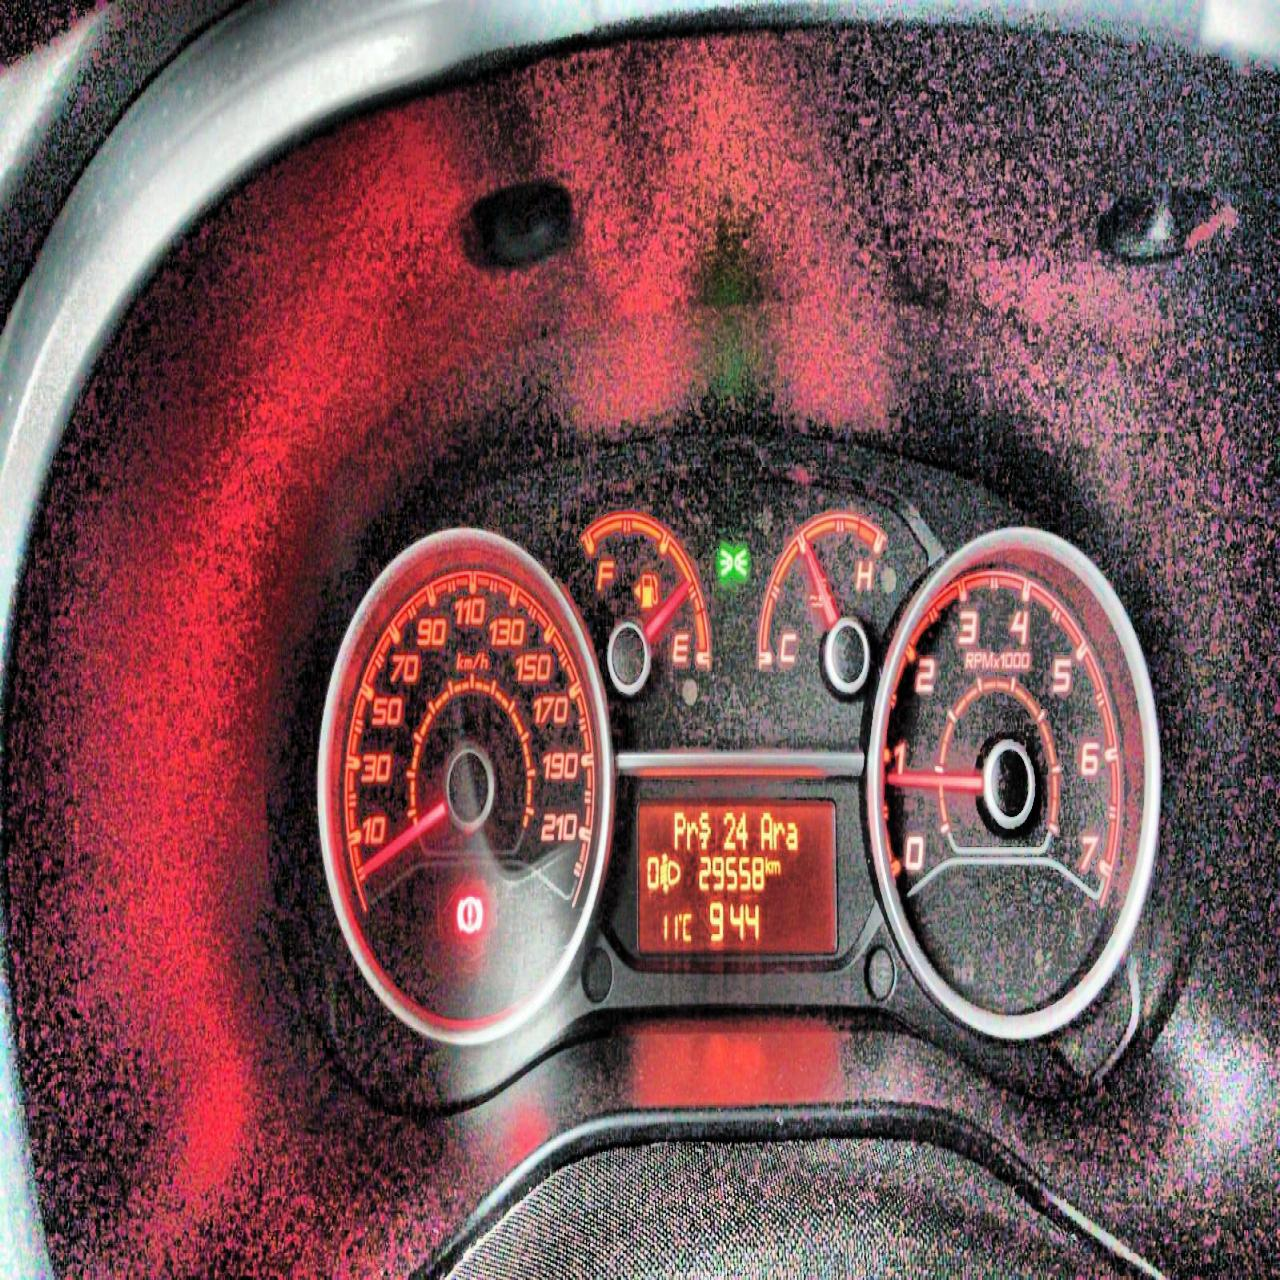0: (645, 853, 659, 893)
1: (661, 911, 668, 942), (673, 911, 678, 942)
2: (721, 808, 735, 850), (697, 855, 710, 893)
4: (728, 900, 743, 942), (743, 901, 760, 940), (736, 810, 749, 850)
5: (724, 853, 737, 890), (738, 853, 750, 888)
8: (751, 855, 763, 890)
9: (708, 898, 723, 940), (712, 853, 724, 891)
X: (760, 811, 772, 849), (681, 910, 694, 942), (787, 817, 799, 850), (673, 809, 683, 849), (699, 809, 709, 847), (685, 818, 697, 847), (772, 818, 783, 849), (771, 858, 781, 872), (764, 855, 771, 873)
odometer: (629, 794, 843, 960)
